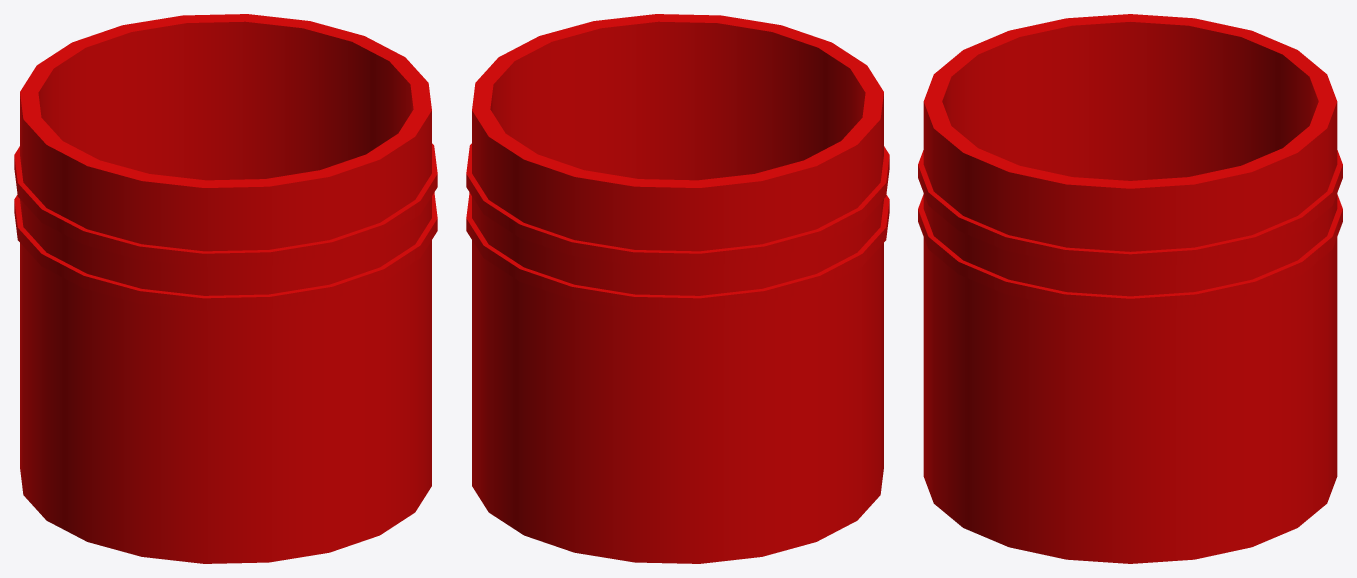
File: SM_GlueTubeLid.fbx
The picture shows the model from 3 angles, left to right: view 1: azimuth 30°, elevation 25°; view 2: azimuth 150°, elevation 25°; view 3: azimuth 270°, elevation 25°; orthographic projection.
Visible parts, largest first — view 1: Gue_Lid; view 2: Gue_Lid; view 3: Gue_Lid.
Part boxes in pixels (left/top/right/bottom): Gue_Lid: left=14, top=14, right=437, bottom=563; Gue_Lid: left=466, top=14, right=889, bottom=563; Gue_Lid: left=918, top=14, right=1342, bottom=563.
Bounding box in the file's own units: 9.25 × 9.01 × 9.25.
